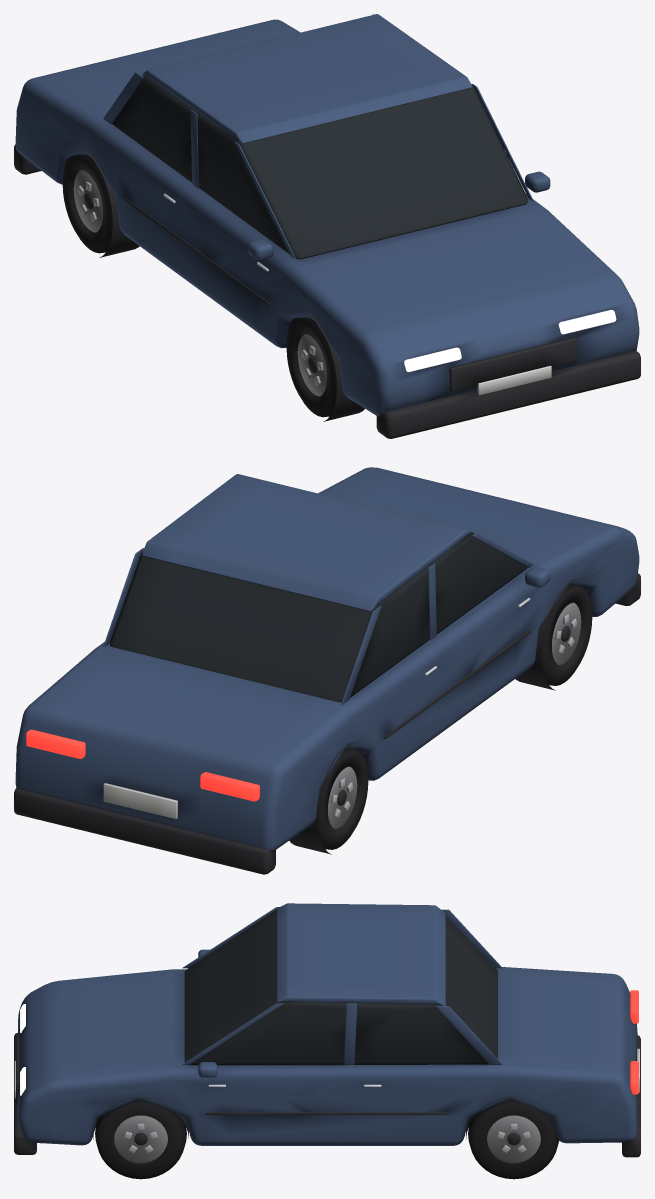
Rendered from car.glb.
3 renders of one model, top to bottom at view 1: azimuth 30°, elevation 25°; view 2: azimuth 150°, elevation 25°; view 3: azimuth 270°, elevation 25°, orthographic. The views are drawn at different scales.
Parts seen in each view (by area): view 1: p_car; view 2: p_car; view 3: p_car.
Boxes of the visible parts, x1,y1,x2,y2 form: p_car: (14, 14, 640, 438); p_car: (14, 467, 640, 874); p_car: (14, 903, 640, 1179).
Size of the model in its own units: 2.1 by 1.48 by 4.64.
